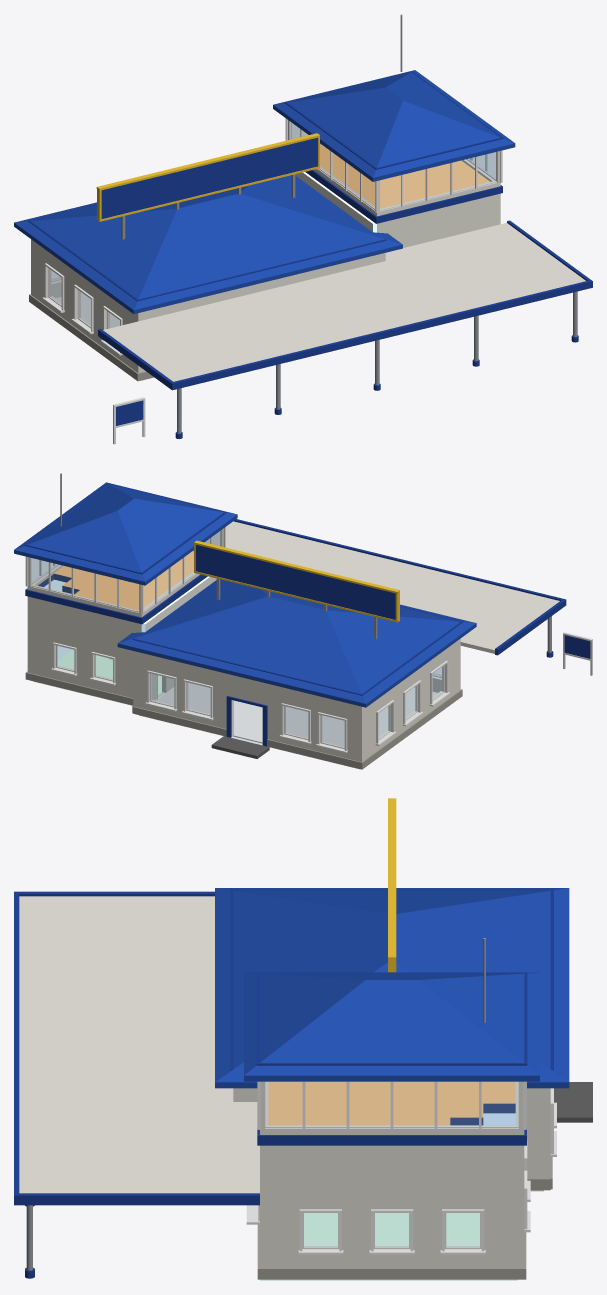
File: SM_Harbor_Terminal.fbx
3 renders of one model, top to bottom at view 1: azimuth 30°, elevation 25°; view 2: azimuth 150°, elevation 25°; view 3: azimuth 270°, elevation 25°, orthographic. The views are drawn at different scales.
Visible parts, largest first — view 1: SM_Harbor_Terminal; view 2: SM_Harbor_Terminal; view 3: SM_Harbor_Terminal.
Part boxes in pixels (<box>): SM_Harbor_Terminal: <box>14,14,592,444</box>; SM_Harbor_Terminal: <box>14,473,592,769</box>; SM_Harbor_Terminal: <box>14,798,592,1280</box>.
Bounding box in the file's own units: 30.01 × 13.7 × 21.9.
